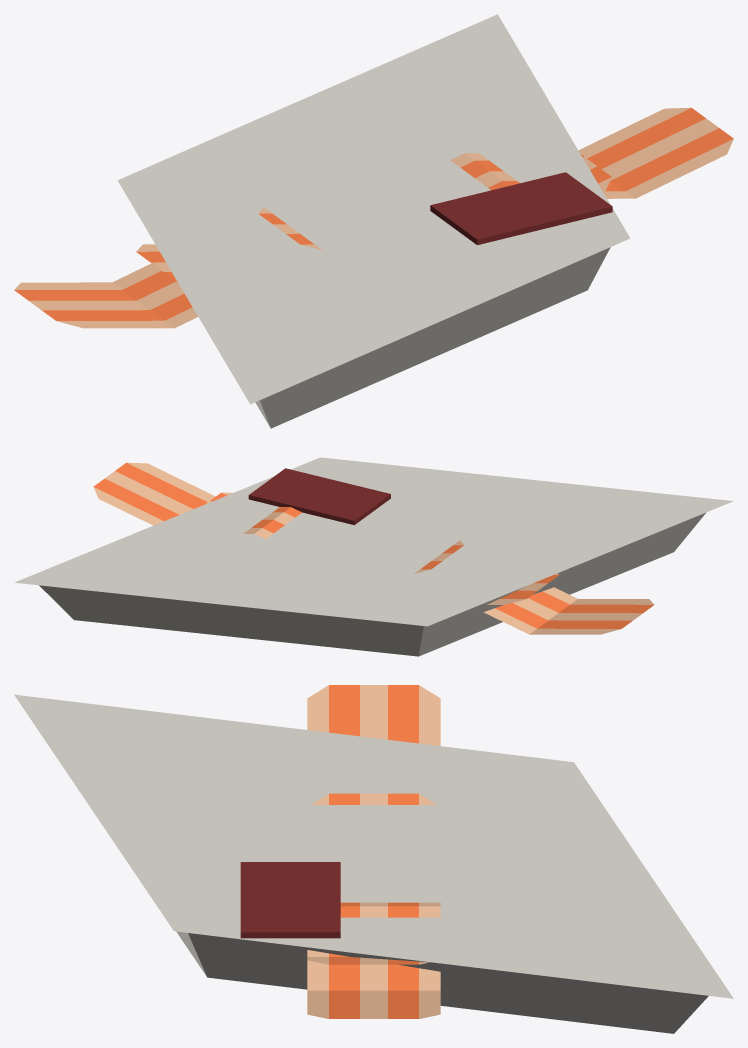
The model's file is g-bacon.glb.
3 views of the same model, one above another, from view 1: azimuth 30°, elevation 25°; view 2: azimuth 150°, elevation 25°; view 3: azimuth 270°, elevation 25° (orthographic). The views are drawn at different scales.
Parts seen in each view (by area): view 1: g_bacon; view 2: g_bacon; view 3: g_bacon.
Part boxes in pixels (x1,y1,x2,y2): g_bacon: (14, 14, 733, 428); g_bacon: (14, 457, 733, 656); g_bacon: (14, 685, 733, 1033).
Bounding box in the file's own units: 0.25 × 0.022 × 0.216.
